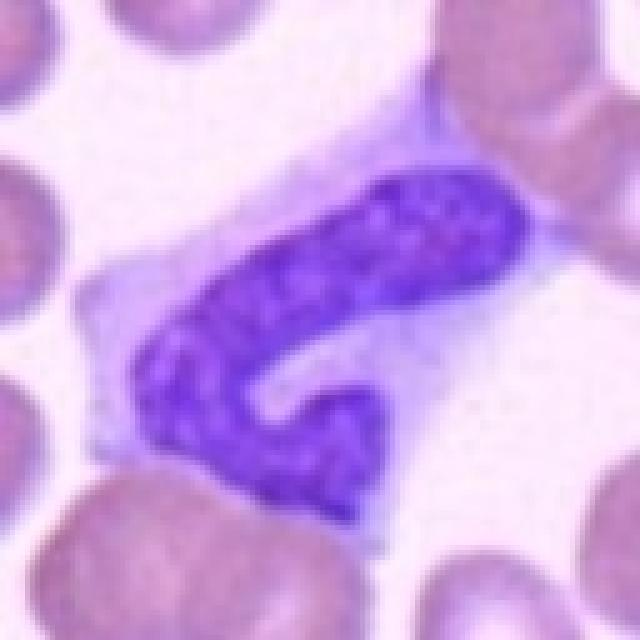neutro: (106, 107, 586, 517)
